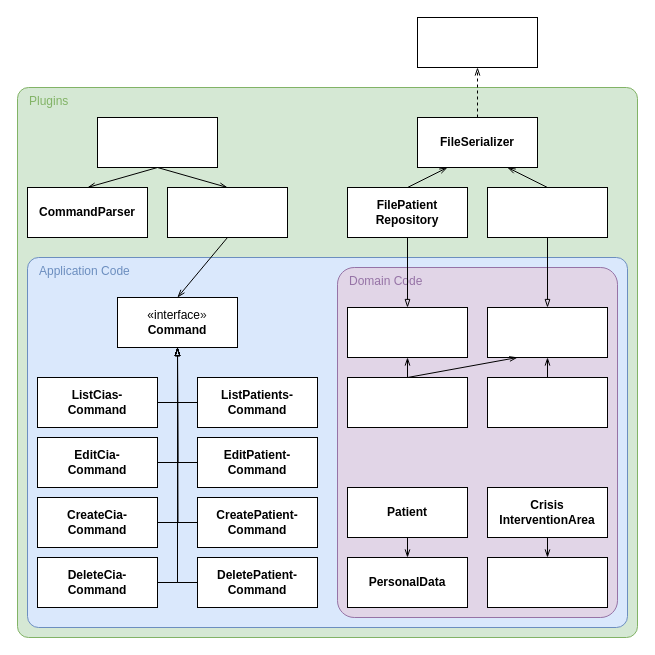
Some shapes in this 655 by 655 pixel diagram are drawn without their labels. Here are the shapes that lost their labels. From the top down, the box of each, then its label:
(416, 16, 538, 68): Gson
(96, 116, 218, 168): ConsoleAdapter
(166, 186, 288, 238): CommandRegistry
(486, 186, 608, 238): FileCrisis- Intervention Area- Repository
(346, 306, 468, 358): «i nterface » PatientRepository
(486, 306, 608, 358): «i nterface » CrisisIntervention- AreaRepository
(346, 376, 468, 428): PatientService
(486, 376, 608, 428): CrisisIntervention- AreaService
(486, 556, 608, 608): RoomData
